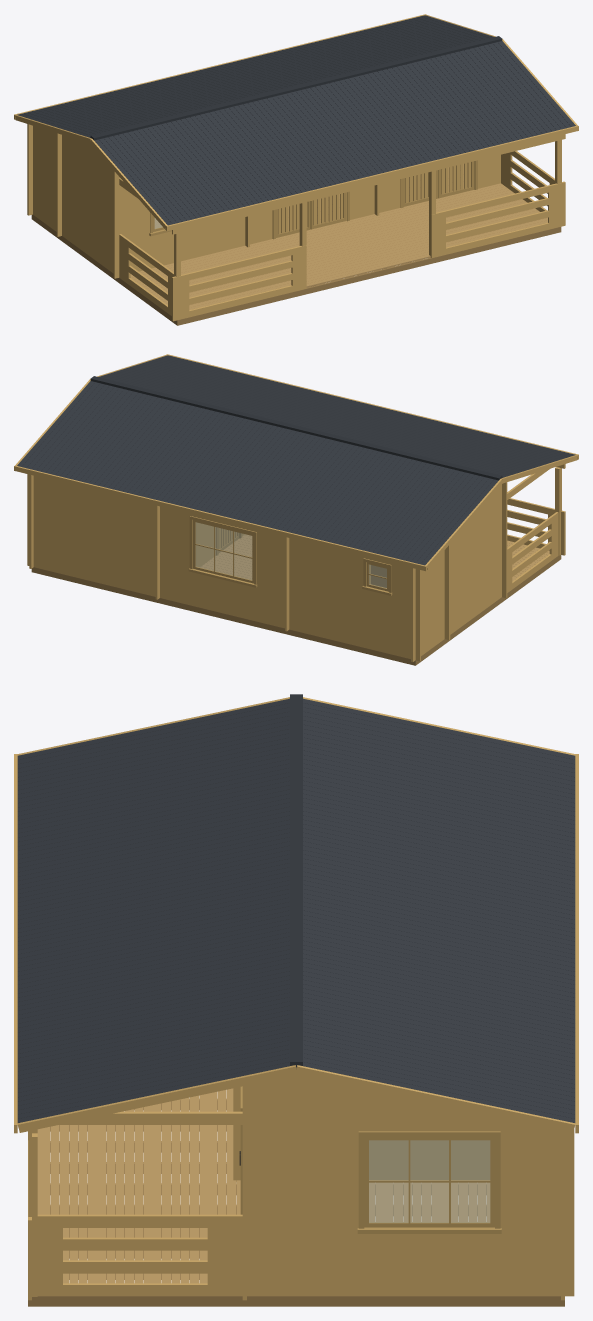
File: аманда_6_9_44_мм_крытая_терраса_спереди.glb
The picture shows the model from 3 angles, top to bottom: view 1: azimuth 30°, elevation 25°; view 2: azimuth 150°, elevation 25°; view 3: azimuth 270°, elevation 25°; orthographic projection. The views are drawn at different scales.
Visible parts, largest first — view 1: roof, walls, floor, Аманда 6×9 (44 мм, крытая терраса спереди); view 2: roof, walls, Аманда 6×9 (44 мм, крытая терраса спереди), object 196, floor; view 3: roof, walls, floor, object 218, Аманда 6×9 (44 мм, крытая терраса спереди), object 224, object 225, object 217.
Boxes of the visible parts, <box> form: roof: <box>14,14,578,231</box>; walls: <box>27,124,565,321</box>; floor: <box>130,164,547,309</box>; Аманда 6×9 (44 мм, крытая терраса спереди): <box>31,214,561,325</box>; roof: <box>14,354,578,571</box>; walls: <box>27,464,565,661</box>; Аманда 6×9 (44 мм, крытая терраса спереди): <box>31,555,561,665</box>; object 196: <box>196,522,251,579</box>; floor: <box>200,534,549,580</box>; roof: <box>14,694,578,1133</box>; walls: <box>28,1075,574,1300</box>; floor: <box>37,1088,490,1283</box>; object 218: <box>369,1140,489,1222</box>; Аманда 6×9 (44 мм, крытая терраса спереди): <box>28,1099,564,1306</box>; object 224: <box>359,1131,500,1137</box>; object 225: <box>357,1228,501,1233</box>; object 217: <box>364,1222,494,1227</box>.
Bounding box in the file's own units: 9.39 × 3.02 × 6.05.
